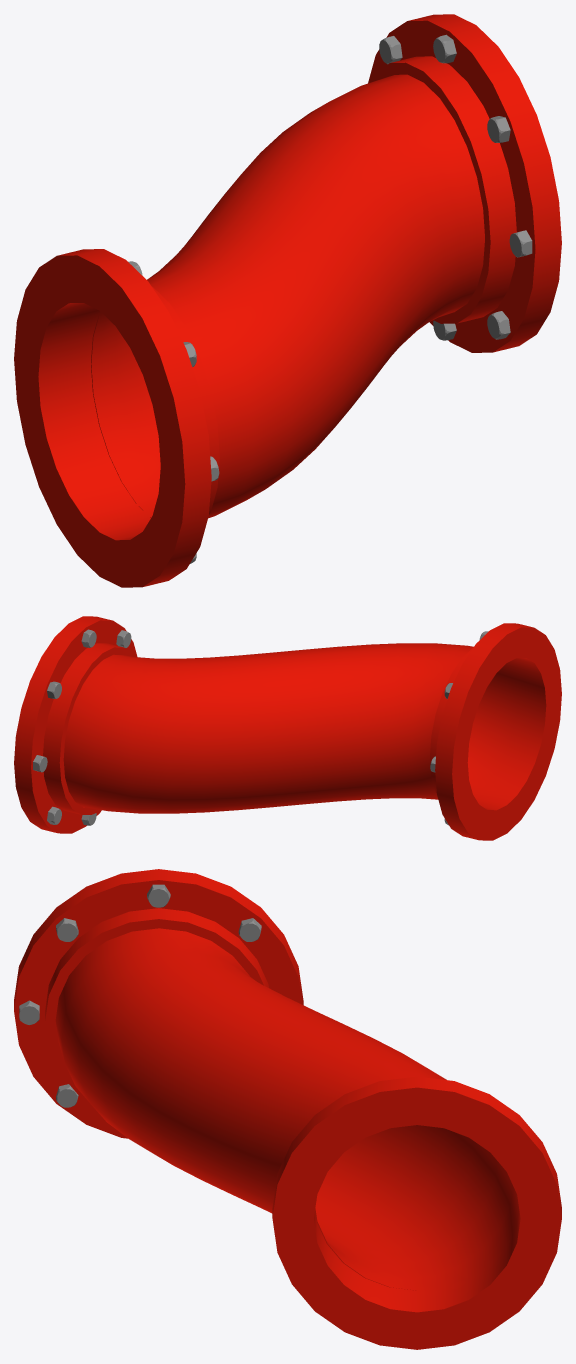
Rendered from Pipe_200_Swerve_1m.fbx.
3 renders of one model, top to bottom at view 1: azimuth 30°, elevation 25°; view 2: azimuth 150°, elevation 25°; view 3: azimuth 270°, elevation 25°, orthographic. The views are drawn at different scales.
Parts seen in each view (by area): view 1: Pipe_200_Swerve_1m; view 2: Pipe_200_Swerve_1m; view 3: Pipe_200_Swerve_1m.
Boxes of the visible parts, x1,y1,x2,y2 form: Pipe_200_Swerve_1m: (14, 14, 561, 587); Pipe_200_Swerve_1m: (14, 616, 561, 840); Pipe_200_Swerve_1m: (14, 869, 561, 1349).
Size of the model in its own units: 0.5 by 0.28 by 0.53.
